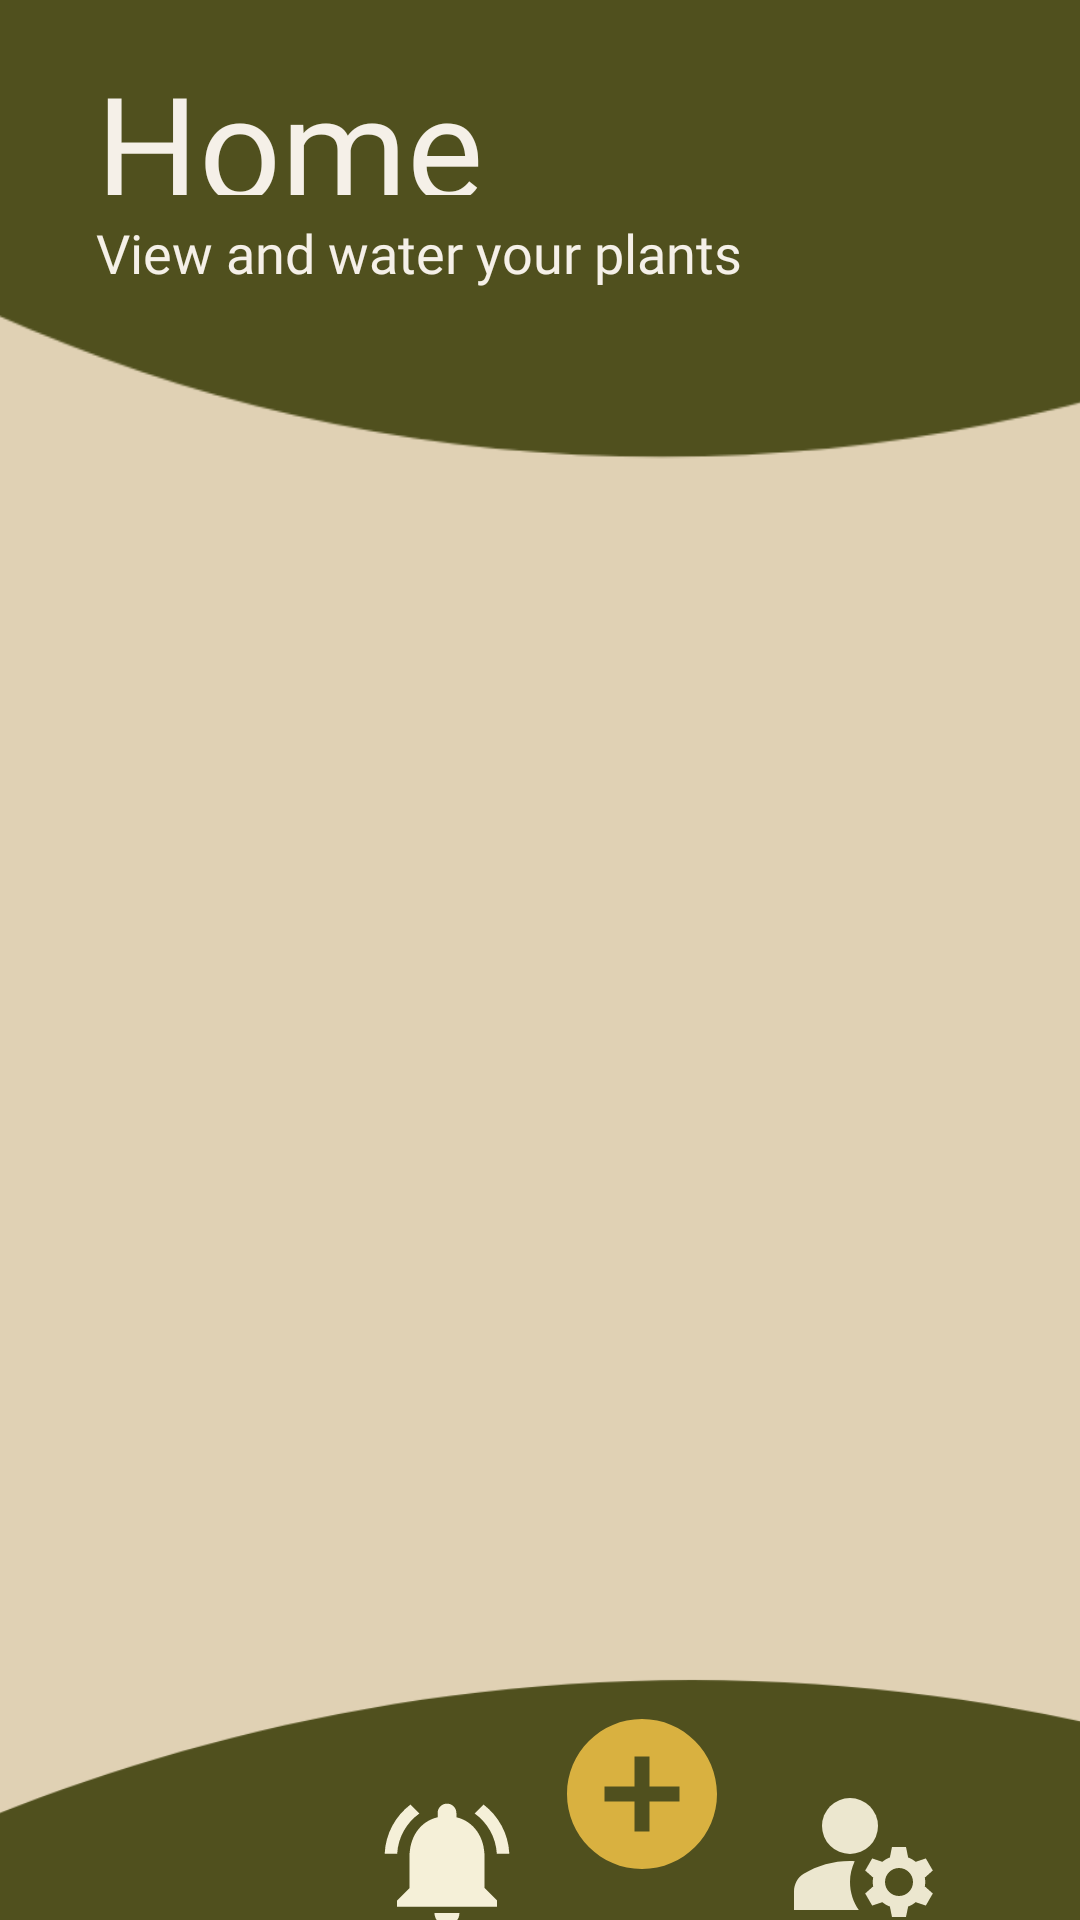

Where to tap for icons on this 1080 × 1920 app screen, as [x,y]:
add circle: [642,1794]
